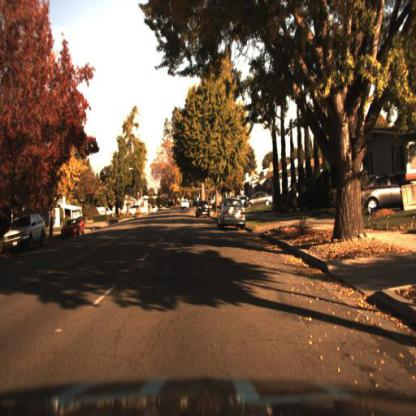car: (353, 171, 416, 221), (2, 208, 47, 257), (216, 196, 248, 234), (59, 216, 89, 243), (244, 189, 275, 210), (193, 196, 214, 224)
